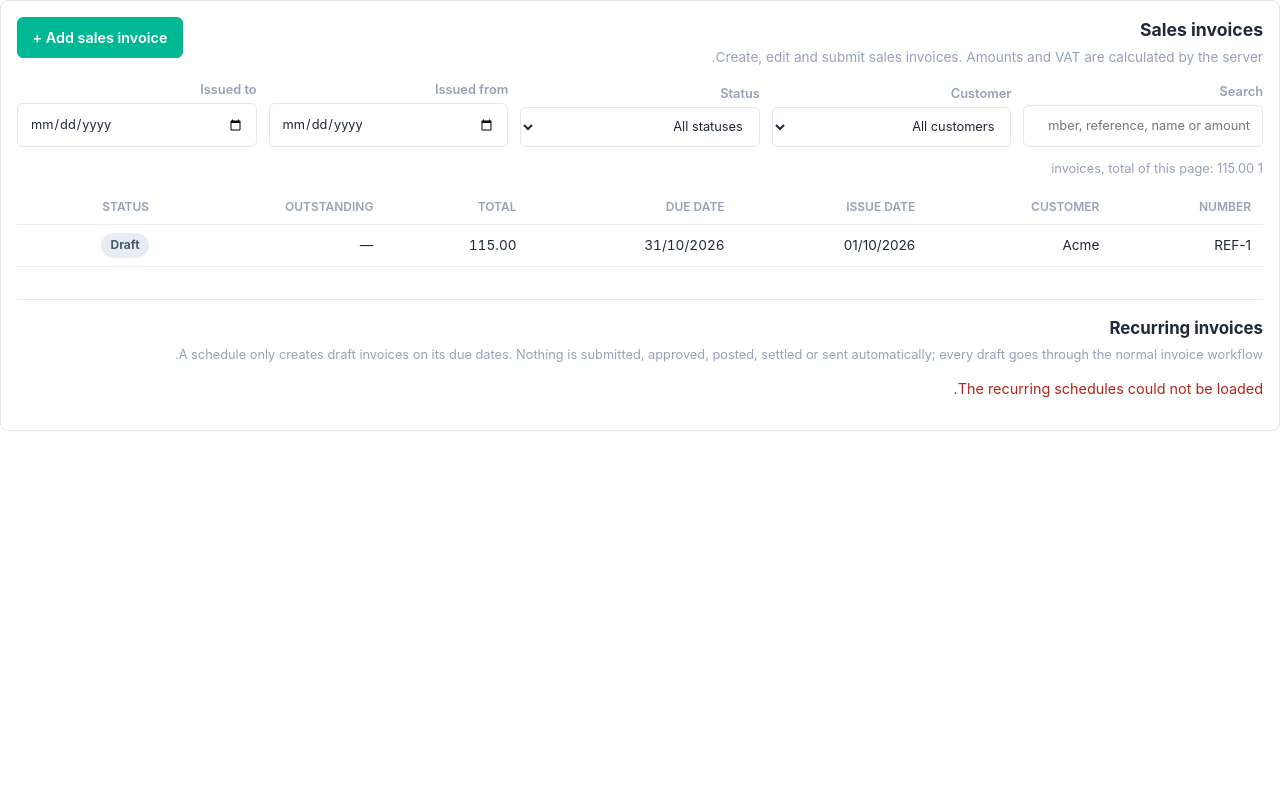
Test case: Sales invoices › shows a mapped message for a server error code instead of raw text
Click the text "REF-1" at (1187, 245), box [1111, 225, 1263, 266]
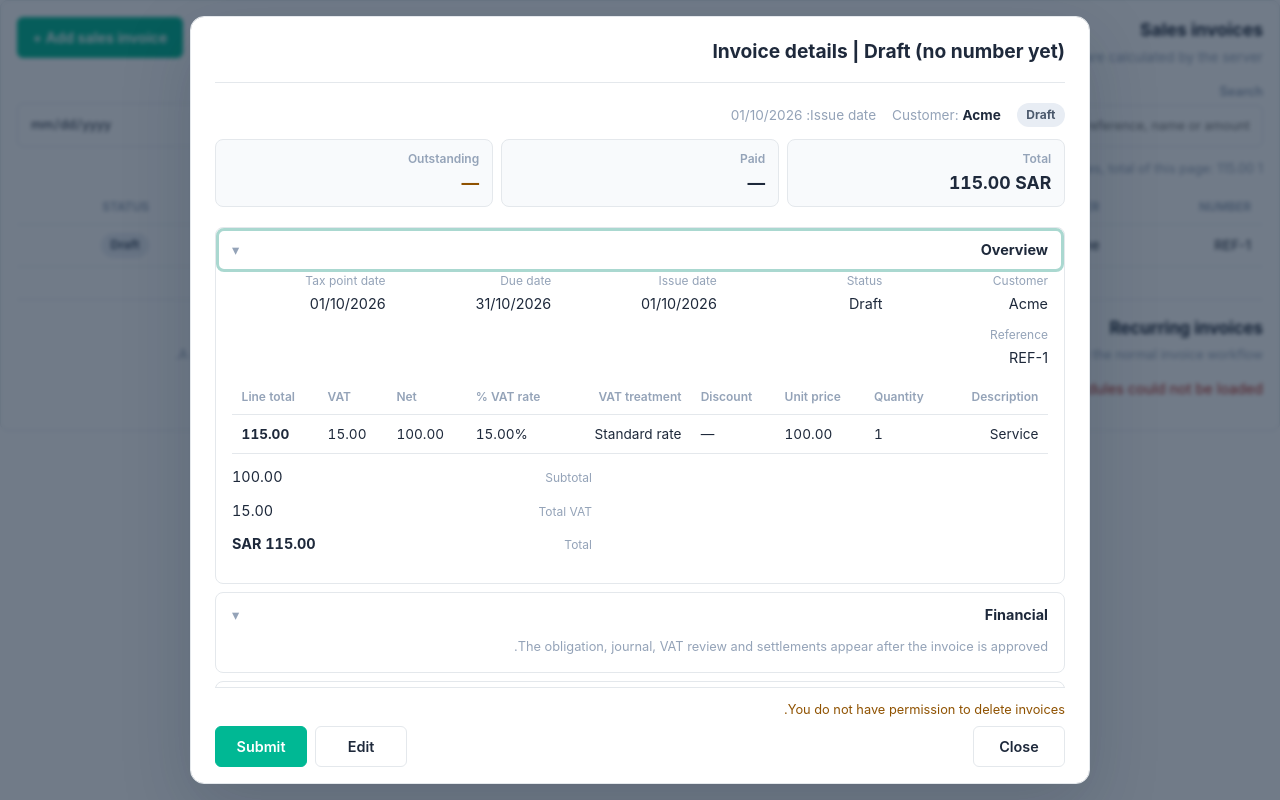
Click the button "Submit" at (261, 746), box [215, 726, 307, 767]
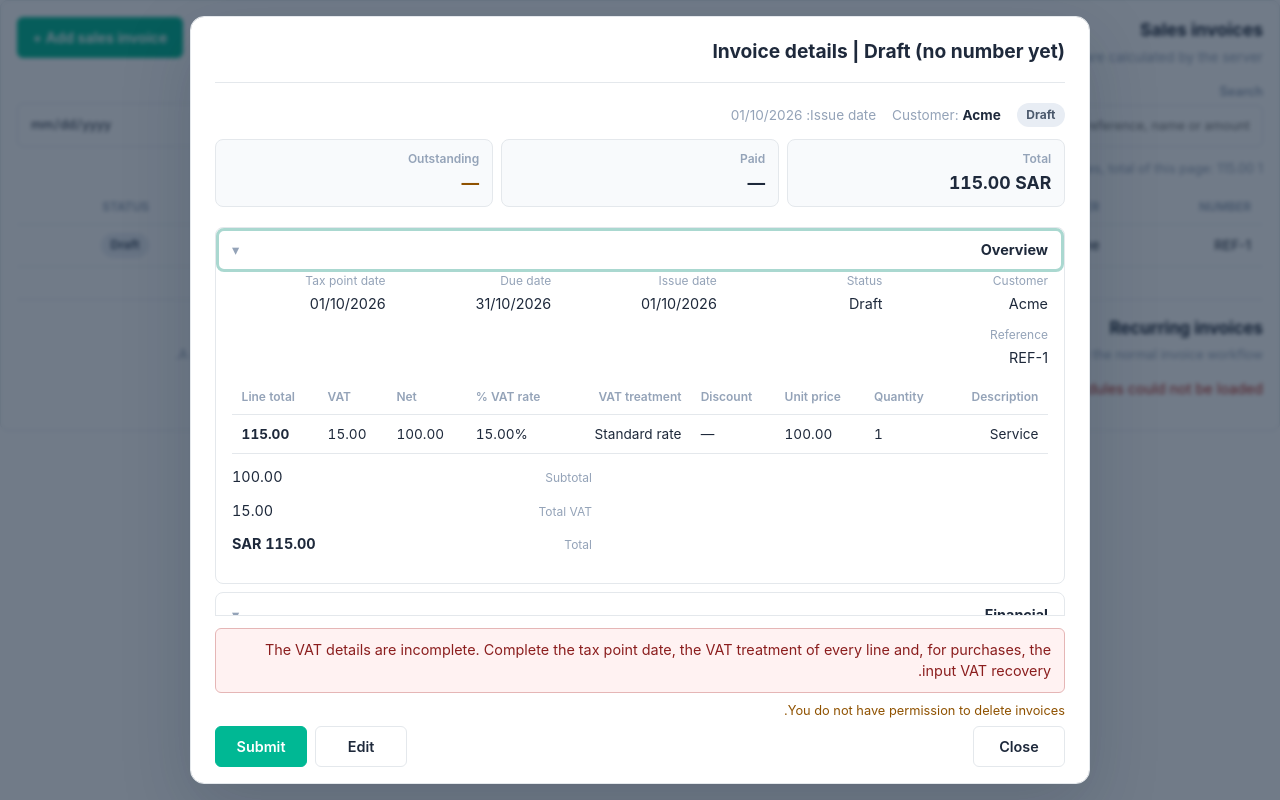
Expected: the message shows "Complete the tax point date", [265, 640, 1051, 679]
